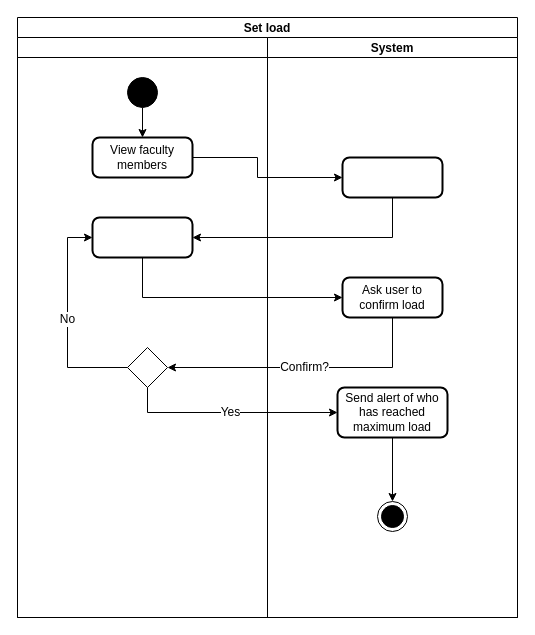
Image size: 535x635. Some labels were removed from this diagram. The box of each missing label's shape, as (x1, y1, x2, y2) in pixels:
Committe member: (16, 36, 268, 618)
Display faculty members page: (341, 156, 443, 198)
Enter load: (91, 216, 193, 258)
